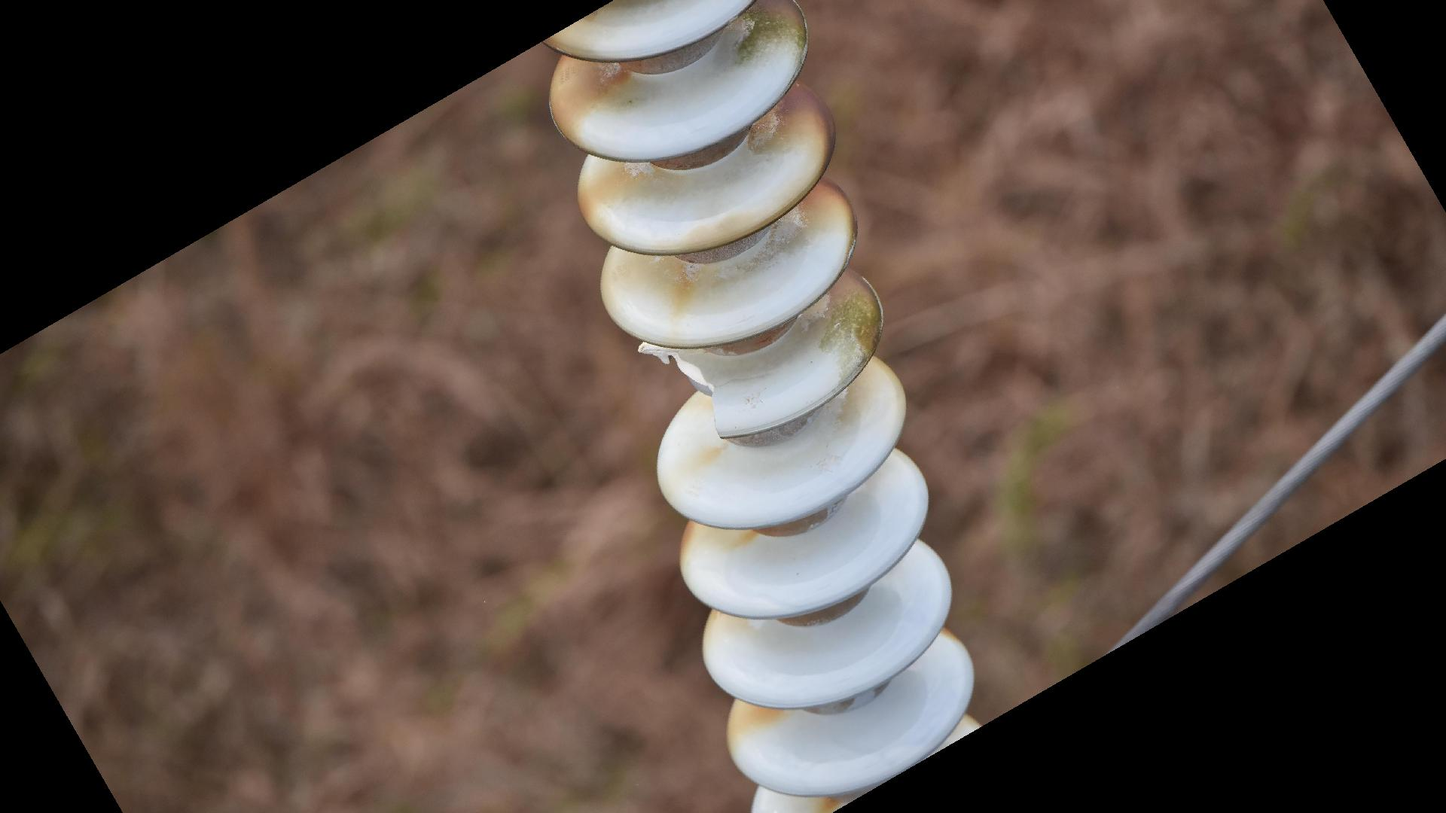insulator: (535, 1, 992, 813)
insulator_breakage: (626, 337, 736, 445)
